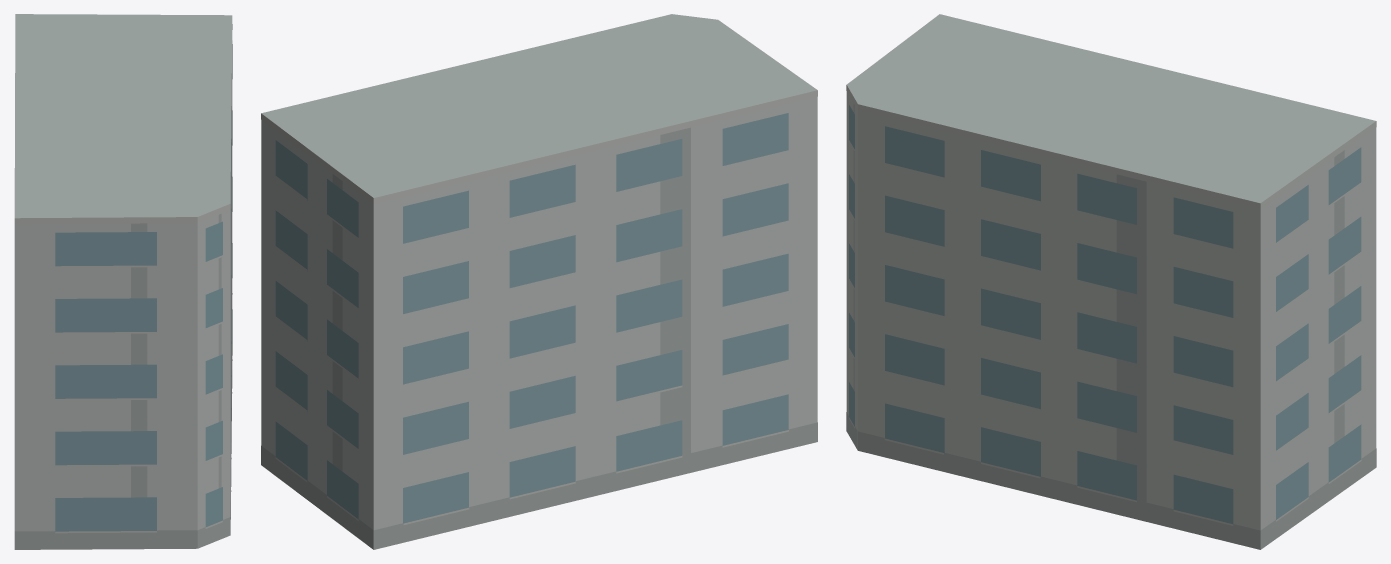
Rendered from survey-upis-32843580.glb.
3 views of the same model, side by side, from view 1: azimuth 30°, elevation 25°; view 2: azimuth 150°, elevation 25°; view 3: azimuth 270°, elevation 25° (orthographic). The views are drawn at different scales.
Parts seen in each view (by area): view 1: survey-upis-32843580.tmp; view 2: survey-upis-32843580.tmp; view 3: survey-upis-32843580.tmp.
Part boxes in pixels (x1,y1,x2,y2): survey-upis-32843580.tmp: [14, 14, 232, 549]; survey-upis-32843580.tmp: [261, 14, 817, 549]; survey-upis-32843580.tmp: [846, 14, 1376, 549].
Bounding box in the file's own units: 15.47 × 13.2 × 18.3.
